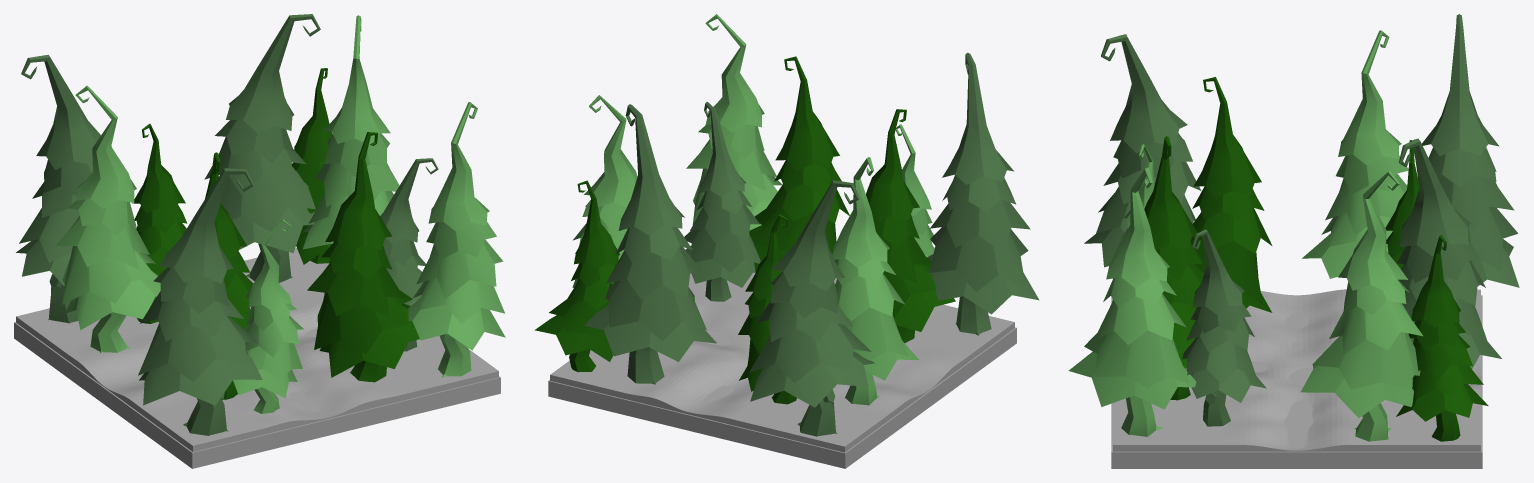
File: Foret_labyrinth01_v1.fbx
The picture shows the model from 3 angles, left to right: view 1: azimuth 30°, elevation 25°; view 2: azimuth 150°, elevation 25°; view 3: azimuth 270°, elevation 25°; orthographic projection. The views are drawn at different scales.
Parts seen in each view (by area): view 1: sol32, sapin48, sapin47, sapin44, sapin39, sapin46, sapin41, sol10, sapin43, sapin49, sapin40, sapin45 (+2 smaller); view 2: sol32, sapin44, sapin41, sapin48, sapin39, sol10, sapin47, sapin45, sapin50, sapin46, sapin42, sapin43 (+2 smaller); view 3: sol32, sapin46, sapin43, sapin41, sol10, sapin39, sapin44, sapin50, sapin48, sapin45, sapin42, sapin47 (+2 smaller).
Boxes of the visible parts, box(x1,y1,x2,y2) form: sol32: box(16, 248, 498, 451); sapin48: box(138, 168, 262, 435); sapin47: box(307, 132, 419, 382); sapin44: box(204, 14, 320, 282); sapin39: box(55, 85, 160, 353); sapin46: box(407, 102, 505, 377); sapin41: box(16, 54, 111, 323); sol10: box(14, 322, 500, 468); sapin43: box(302, 15, 399, 249); sapin49: box(233, 219, 303, 413); sapin40: box(132, 123, 187, 323); sapin45: box(380, 158, 438, 351); sol32: box(550, 272, 1014, 452); sapin44: box(585, 104, 716, 384); sapin41: box(749, 180, 875, 436); sapin48: box(927, 52, 1039, 335); sapin39: box(832, 157, 918, 405); sol10: box(548, 327, 1016, 468); sapin47: box(749, 56, 849, 272); sapin45: box(684, 102, 760, 301); sapin50: box(866, 109, 955, 342); sapin46: box(686, 14, 782, 230); sapin42: box(534, 180, 619, 372); sapin43: box(572, 95, 637, 287); sol32: box(1113, 289, 1480, 451); sapin46: box(1068, 167, 1196, 437); sapin43: box(1301, 170, 1422, 441); sapin41: box(1422, 14, 1519, 287); sol10: box(1111, 295, 1482, 468); sapin39: box(1302, 30, 1408, 278); sapin44: box(1397, 138, 1501, 368); sapin50: box(1190, 77, 1272, 312); sapin48: box(1084, 34, 1201, 267); sapin45: box(1182, 229, 1266, 426); sapin42: box(1396, 235, 1488, 441); sapin47: box(1144, 136, 1203, 400).
Bounding box in the file's own units: 952 × 713 × 973.
